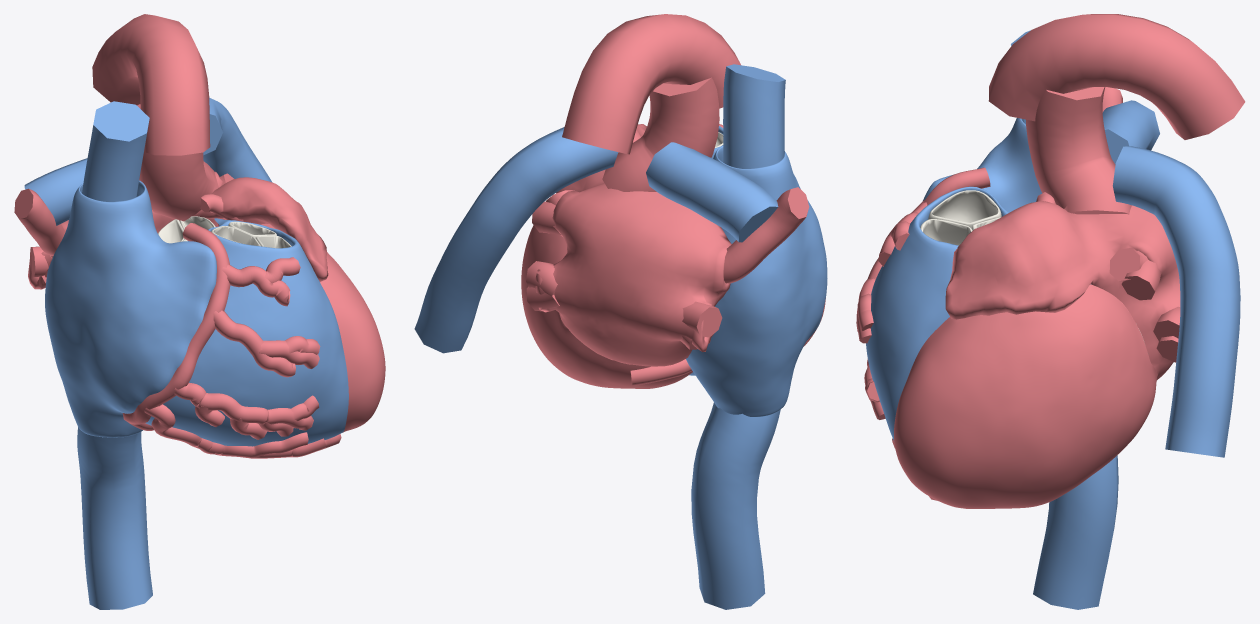
The model's file is heart-v5.glb.
3 renders of one model, left to right at view 1: azimuth 30°, elevation 25°; view 2: azimuth 150°, elevation 25°; view 3: azimuth 270°, elevation 25°, orthographic. The views are drawn at different scales.
Parts seen in each view (by area): view 1: right_atrium, right_ventricle, coronary_artery_2, aorta_2, inferior_vena_cava, left_ventricle, left_atrium, superior_vena_cava, aorta, pulmonary_artery, pulmonary_artery_2, pulmonary_veins_3 (+1 smaller); view 2: left_atrium, right_atrium, pulmonary_artery, aorta_2, inferior_vena_cava, pulmonary_artery_2, aorta, superior_vena_cava, left_ventricle, pulmonary_veins_3, pulmonary_veins_2, pulmonary_veins_4 (+2 smaller); view 3: left_ventricle, left_atrium, pulmonary_artery, aorta_2, right_ventricle, aorta, inferior_vena_cava, right_atrium, coronary_artery_2, pulmonary_artery_2, pulmonary_veins, pulmonary_valve_3 (+2 smaller).
Boxes of the visible parts, x1,y1,x2,y2 form: right_atrium: [45, 180, 216, 437]; right_ventricle: [145, 218, 348, 446]; coronary_artery_2: [122, 223, 341, 458]; aorta_2: [92, 14, 210, 155]; inferior_vena_cava: [77, 427, 152, 609]; left_ventricle: [208, 219, 385, 432]; left_atrium: [28, 171, 328, 289]; superior_vena_cava: [82, 101, 149, 201]; aorta: [137, 104, 218, 221]; pulmonary_artery: [203, 97, 272, 182]; pulmonary_artery_2: [24, 158, 87, 225]; pulmonary_veins_3: [14, 188, 65, 256]; left_atrium: [535, 124, 731, 366]; right_atrium: [686, 145, 827, 416]; pulmonary_artery: [414, 127, 618, 353]; aorta_2: [562, 14, 740, 154]; inferior_vena_cava: [691, 402, 780, 609]; pulmonary_artery_2: [646, 142, 778, 242]; aorta: [602, 77, 719, 191]; superior_vena_cava: [723, 64, 785, 168]; left_ventricle: [521, 225, 692, 388]; pulmonary_veins_3: [723, 187, 809, 283]; pulmonary_veins_2: [526, 261, 559, 311]; pulmonary_veins_4: [680, 301, 722, 349]; left_ventricle: [894, 284, 1157, 508]; left_atrium: [945, 201, 1180, 380]; pulmonary_artery: [1112, 146, 1240, 457]; aorta_2: [988, 14, 1245, 139]; right_ventricle: [866, 186, 1008, 440]; aorta: [1026, 87, 1131, 214]; inferior_vena_cava: [1033, 455, 1118, 609]; right_atrium: [923, 118, 1091, 284]; coronary_artery_2: [856, 167, 990, 500]; pulmonary_artery_2: [1102, 100, 1159, 164]; pulmonary_veins: [1109, 248, 1160, 300]; pulmonary_valve_3: [928, 190, 1001, 229].
Size of the model in its own units: 0.1422 by 0.2274 by 0.129.
